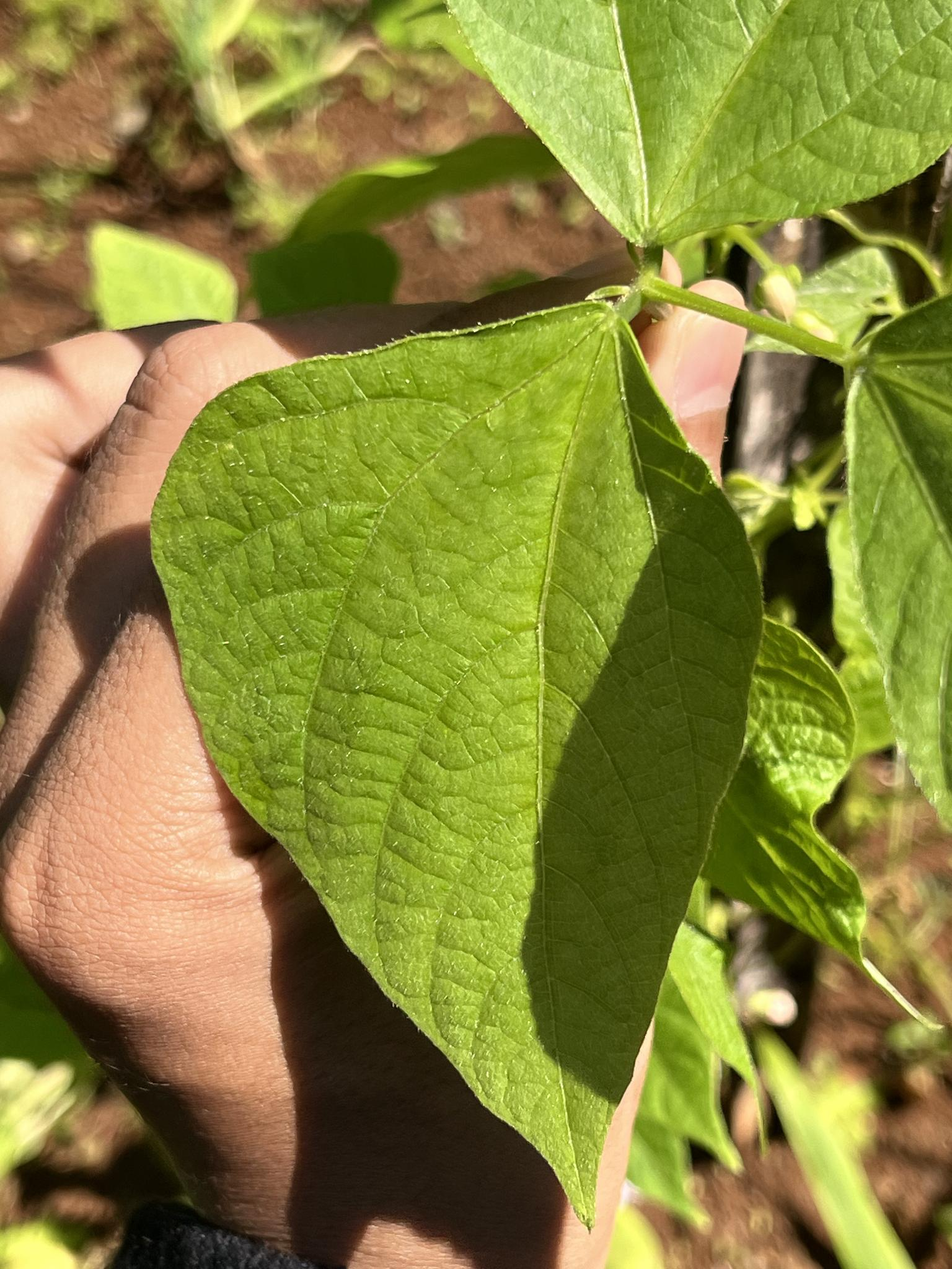sehat: (152, 291, 784, 1236)
